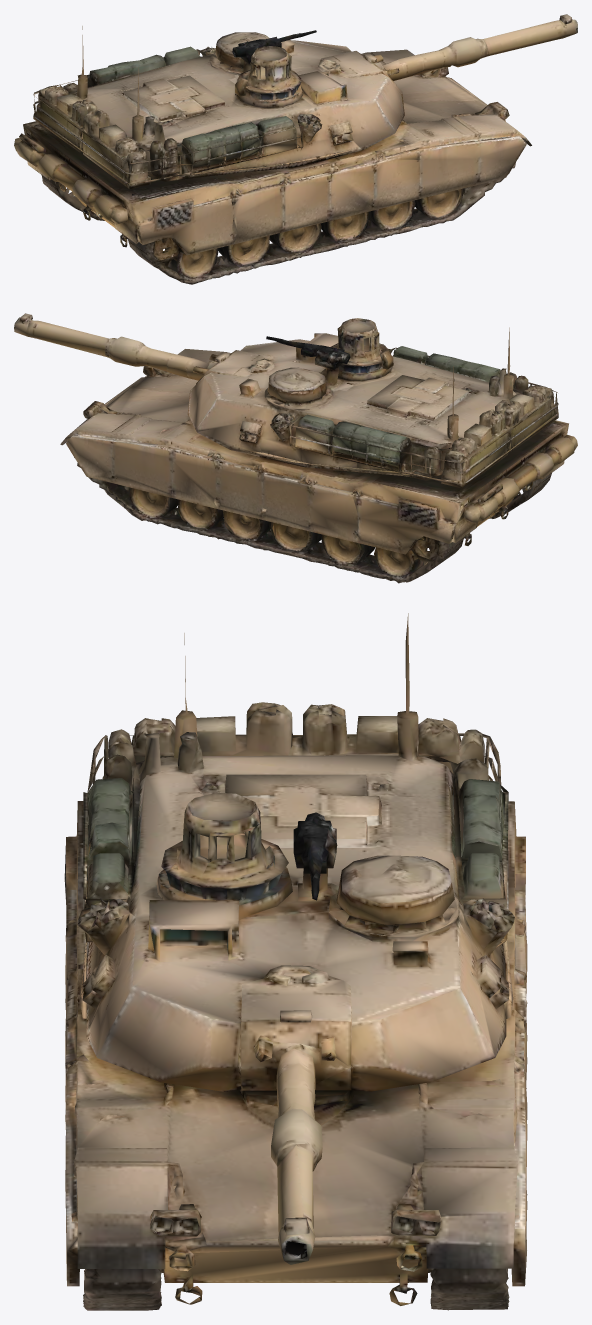
The model's file is tank_abrams.glb.
3 views of the same model, one above another, from view 1: azimuth 30°, elevation 25°; view 2: azimuth 150°, elevation 25°; view 3: azimuth 270°, elevation 25° (orthographic). The views are drawn at different scales.
Parts seen in each view (by area): view 1: geometry_0; view 2: geometry_0; view 3: geometry_0.
Boxes of the visible parts, left/top/right/bottom form: geometry_0: left=14, top=14, right=577, bottom=284; geometry_0: left=14, top=313, right=577, bottom=583; geometry_0: left=64, top=613, right=527, bottom=1310.
Size of the model in its own units: 1.14 by 0.4456 by 0.4462.
1 material, 1 textured.
